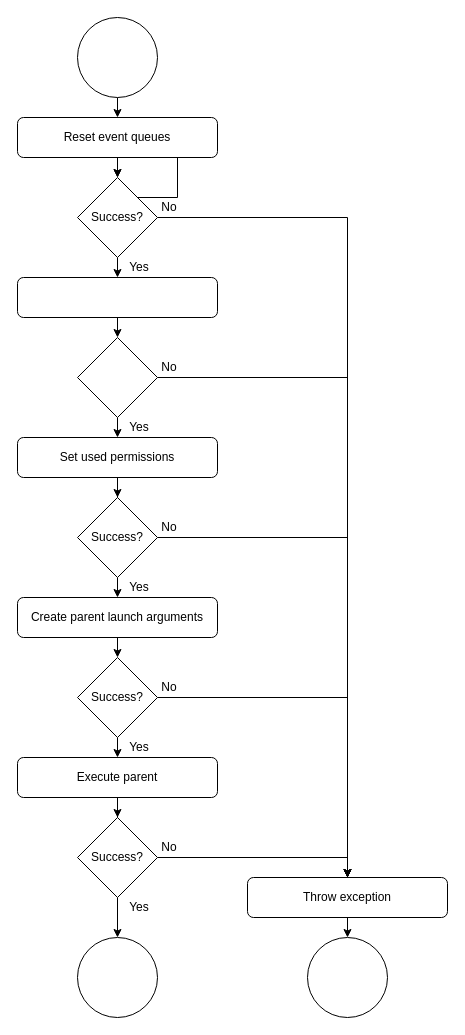
This 465x1035 diagram has some shape labels left out. The box of each missing label's shape, as (x1, y1, x2, y2) in pixels:
Launch failed: (306, 936, 388, 1018)
Launch finished: (76, 936, 158, 1018)
Launch started: (76, 16, 158, 98)
Set used event version: (16, 276, 218, 318)
Supported?: (76, 336, 158, 418)
